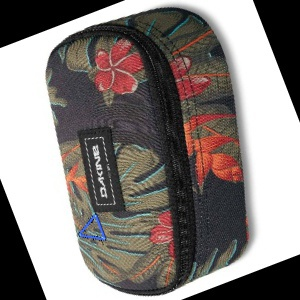triangle: (77, 211, 106, 241)
